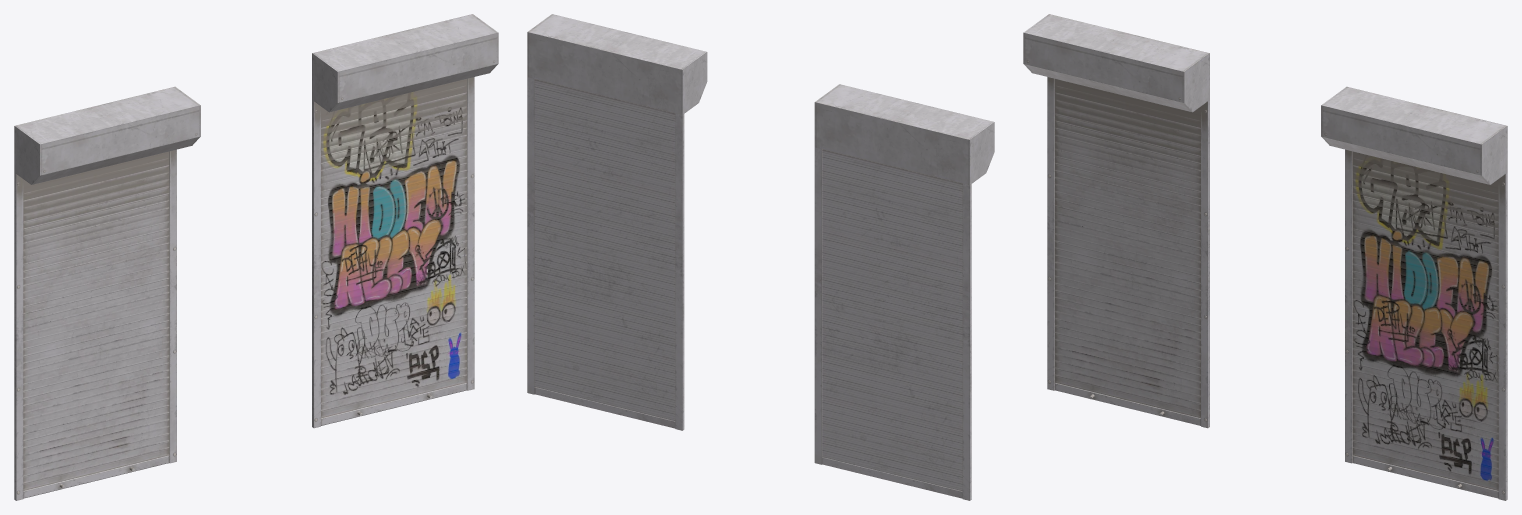
File: rollershutter_door.glb
3 views of the same model, side by side, from view 1: azimuth 30°, elevation 25°; view 2: azimuth 150°, elevation 25°; view 3: azimuth 330°, elevation 25° (orthographic). The views are drawn at different scales.
Visible parts, largest first — view 1: rollershutter_door, rollershutter_door_graffiti; view 2: rollershutter_door, rollershutter_door_graffiti; view 3: rollershutter_door_graffiti, rollershutter_door.
Part boxes in pixels (x1,y1,x2,y2): rollershutter_door: (14, 86, 200, 500); rollershutter_door_graffiti: (312, 14, 498, 428); rollershutter_door: (814, 84, 994, 500); rollershutter_door_graffiti: (527, 14, 707, 430); rollershutter_door_graffiti: (1321, 86, 1507, 500); rollershutter_door: (1023, 14, 1209, 428).
Size of the model in its own units: 3.08 by 2.4 by 0.2991.
2 materials, 2 textured.
